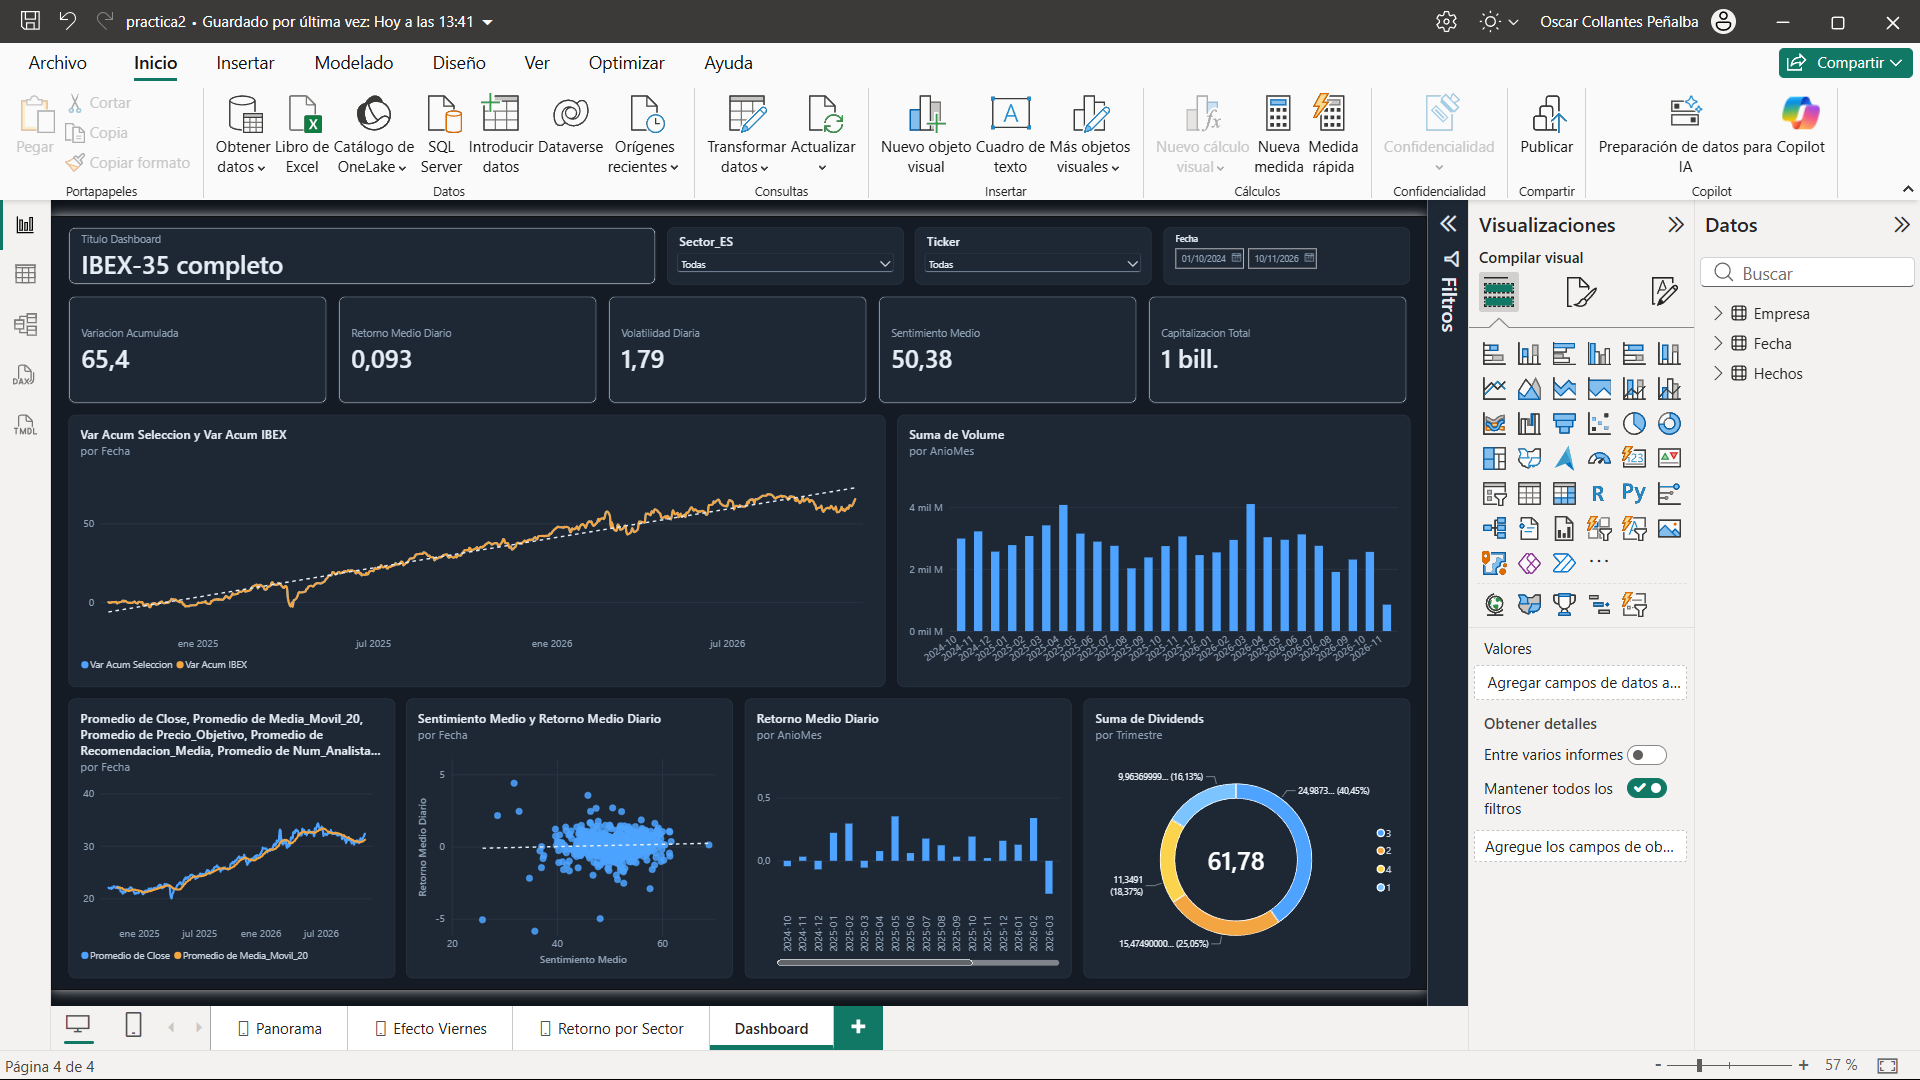

The dashboard page shown, as its layout file describes it:
{"tool":"powerbi","page":{"name":"Dashboard","canvas":[1920,1080],"ordinal":3},"visuals":[{"type":"slicer","fields":{"Values":["Empresa.Sector_ES"]},"box":[753.5,31.4,280.8,68],"z":0},{"type":"slicer","fields":{"Values":["Empresa.Ticker"]},"box":[1055.2,26.2,280.8,80.2],"z":1000},{"type":"slicer","fields":{"Values":["Fecha.Fecha"]},"box":[1360.5,19.2,280.8,95.9],"z":2000},{"type":"cardVisual","fields":{"Data":["Hechos.Variacion Acumulada"]},"box":[36.6,115.1,218,174.4],"z":3000},{"type":"cardVisual","fields":{"Data":["Hechos.Retorno Medio Diario"]},"box":[375,115.1,218,174.4],"z":4000},{"type":"cardVisual","fields":{"Data":["Hechos.Volatilidad Diaria"]},"box":[741.3,115.1,218,174.4],"z":5000},{"type":"cardVisual","fields":{"Data":["Hechos.Sentimiento Medio"]},"box":[1088.4,115.1,218,174.4],"z":6000},{"type":"cardVisual","fields":{"Data":["Hechos.Capitalizacion Total"]},"box":[1447.7,115.1,218,174.4],"z":7000},{"type":"lineChart","fields":{"Category":["Fecha.Fecha"],"Y":["Hechos.Var Acum Seleccion","Hechos.Var Acum IBEX"]},"box":[43.6,314,1058.7,376.7],"z":8000},{"type":"clusteredColumnChart","fields":{"Category":["Fecha.AnioMes"],"Y":["Sum(Hechos.Volume)"]},"box":[1133.7,314,736,376.7],"z":9000},{"type":"lineChart","fields":{"Category":["Fecha.Fecha"],"Y":["Avg(Hechos.Close)","Avg(Hechos.Media_Movil_20)"]},"box":[66.3,711.6,395.9,322.7],"z":10000},{"type":"scatterChart","fields":{"Category":["Fecha.Fecha"],"X":["Hechos.Sentimiento Medio"],"Y":["Hechos.Retorno Medio Diario"]},"box":[462.2,711.6,444.8,322.7],"z":11000},{"type":"clusteredColumnChart","fields":{"Category":["Fecha.AnioMes"],"Y":["Hechos.Retorno Medio Diario"]},"box":[907,711.6,610.5,322.7],"z":12000},{"type":"donutChart","fields":{"Category":["Fecha.Trimestre"],"Y":["Sum(Hechos.Dividends)"]},"box":[1517.4,711.6,385.5,322.7],"z":13000},{"type":"cardVisual","fields":{"Data":["Hechos.Titulo Dashboard"]},"box":[66.3,19.2,556.4,75],"z":13001}]}

Visuals, with their boxes on the page's 1920x1080 design canvas (x1, y1, x2, y2). These are canvas units, not pixel positions in the 1920x1080 screenshot, which may show the page scaled, cropped or inside an application window:
slicer - Empresa.Sector_ES: {"left": 754, "top": 31, "right": 1034, "bottom": 99}
slicer - Empresa.Ticker: {"left": 1055, "top": 26, "right": 1336, "bottom": 106}
slicer - Fecha.Fecha: {"left": 1360, "top": 19, "right": 1641, "bottom": 115}
cardVisual - Hechos.Variacion Acumulada: {"left": 37, "top": 115, "right": 255, "bottom": 290}
cardVisual - Hechos.Retorno Medio Diario: {"left": 375, "top": 115, "right": 593, "bottom": 290}
cardVisual - Hechos.Volatilidad Diaria: {"left": 741, "top": 115, "right": 959, "bottom": 290}
cardVisual - Hechos.Sentimiento Medio: {"left": 1088, "top": 115, "right": 1306, "bottom": 290}
cardVisual - Hechos.Capitalizacion Total: {"left": 1448, "top": 115, "right": 1666, "bottom": 290}
lineChart - Fecha.Fecha x Hechos.Var Acum Seleccion: {"left": 44, "top": 314, "right": 1102, "bottom": 691}
clusteredColumnChart - Fecha.AnioMes x Sum(Hechos.Volume): {"left": 1134, "top": 314, "right": 1870, "bottom": 691}
lineChart - Fecha.Fecha x Avg(Hechos.Close): {"left": 66, "top": 712, "right": 462, "bottom": 1034}
scatterChart - Fecha.Fecha x Hechos.Sentimiento Medio: {"left": 462, "top": 712, "right": 907, "bottom": 1034}
clusteredColumnChart - Fecha.AnioMes x Hechos.Retorno Medio Diario: {"left": 907, "top": 712, "right": 1518, "bottom": 1034}
donutChart - Fecha.Trimestre x Sum(Hechos.Dividends): {"left": 1517, "top": 712, "right": 1903, "bottom": 1034}
cardVisual - Hechos.Titulo Dashboard: {"left": 66, "top": 19, "right": 623, "bottom": 94}
